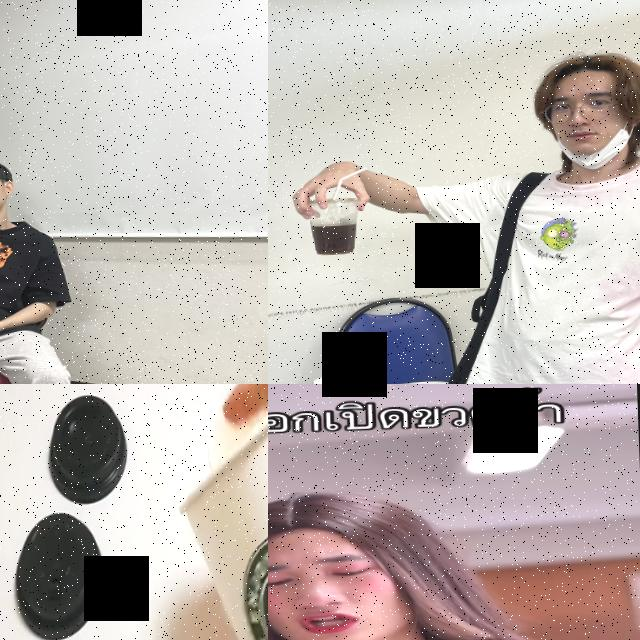cup: (170, 384, 268, 640), (304, 194, 360, 255)
